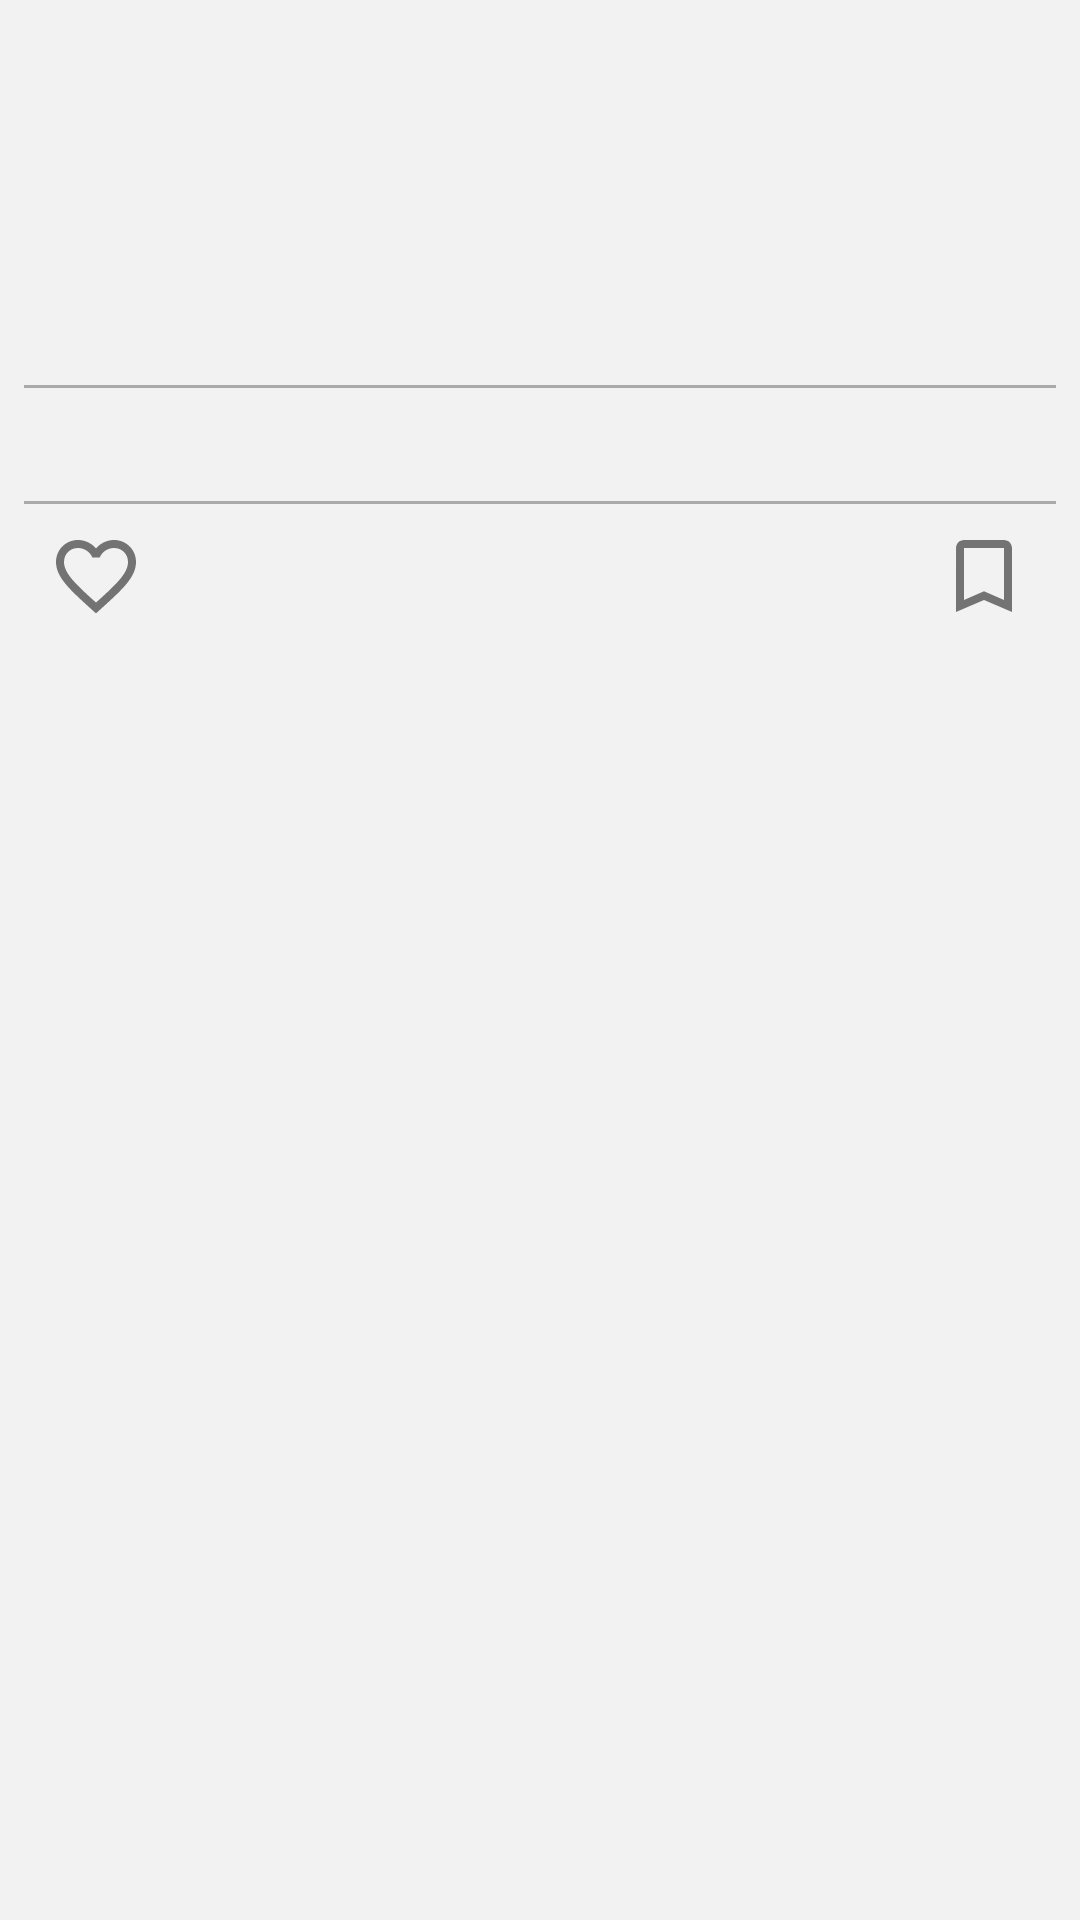

Point at icon controls on the screen. Image size 1080w x 1920h, points as (x=x, y=y).
bookmarked checkbox: (x=984, y=576)
liked checkbox: (x=96, y=576)
